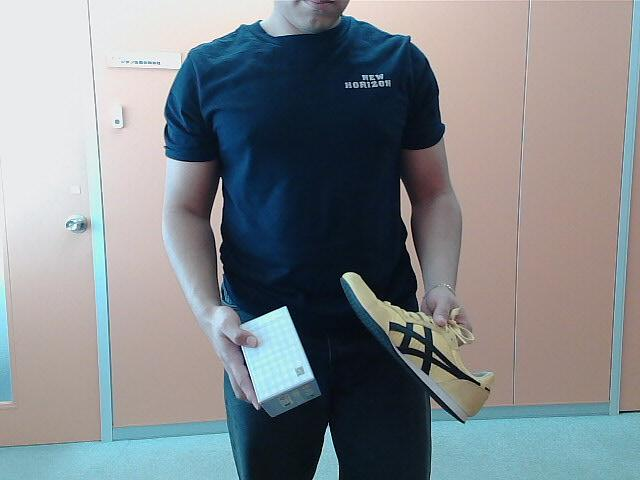Blind_box: (234, 309, 325, 416)
Shoes: (339, 272, 493, 425)
